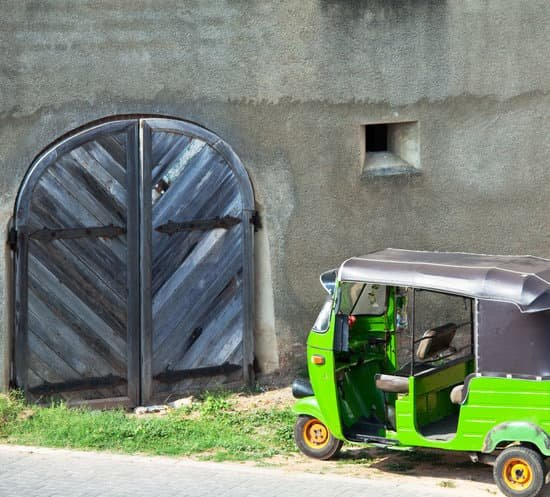threewheel: (291, 247, 550, 497)
